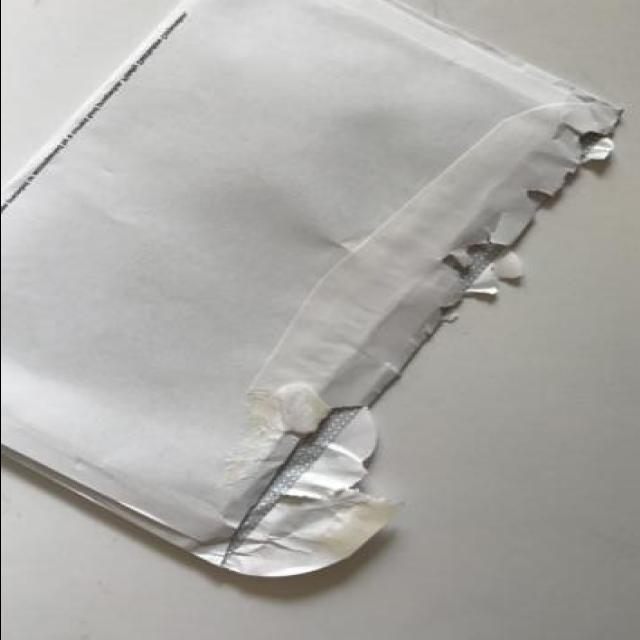kertas: (0, 0, 627, 577)
